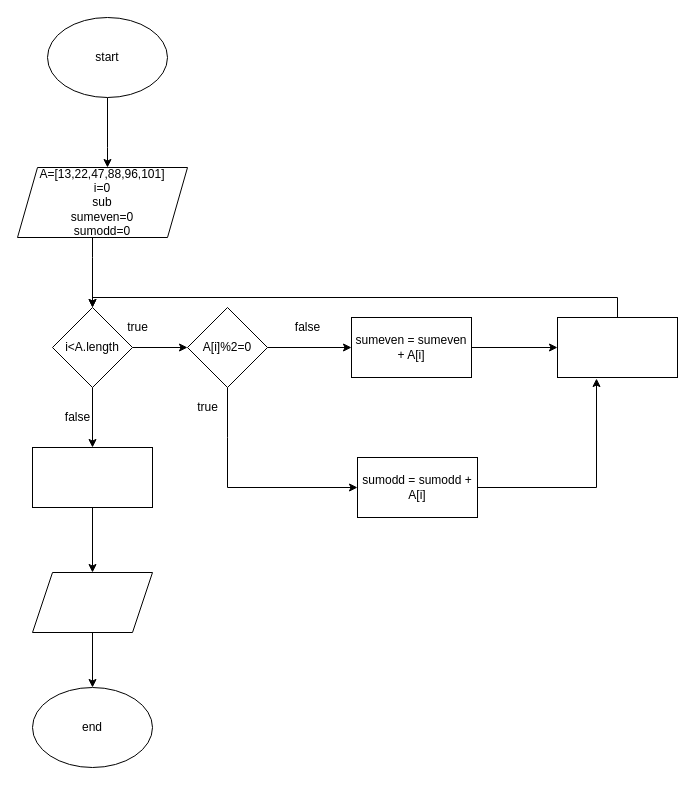
This 695x785 diagram has some shape labels left out. The shapes that lost their labels are listed below. From the top down, each one's centre as x and y in pixels, then its label:
At [617,347]: "i++".
At [92,477]: "sub=sumeven-sumodd".
At [92,602]: "print sub".
